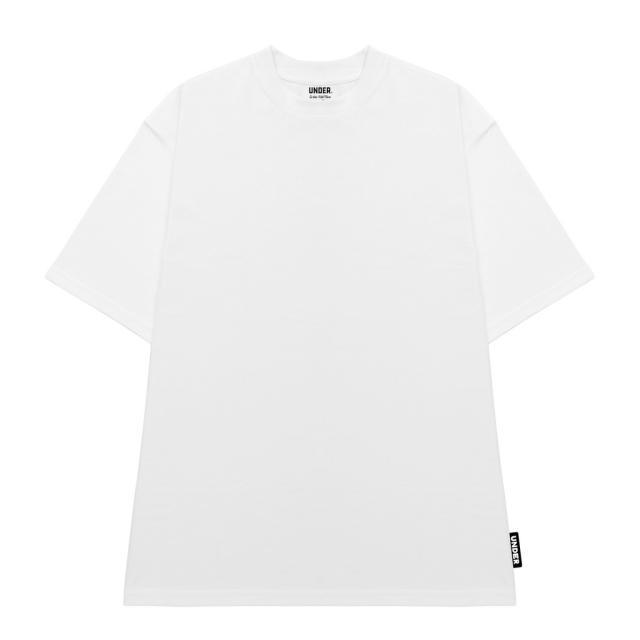Shirt: (42, 39, 598, 616)
